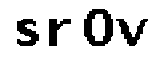0: (82, 9, 113, 49)
r: (47, 17, 74, 49)
s: (12, 18, 39, 49)
v: (115, 17, 148, 48)
